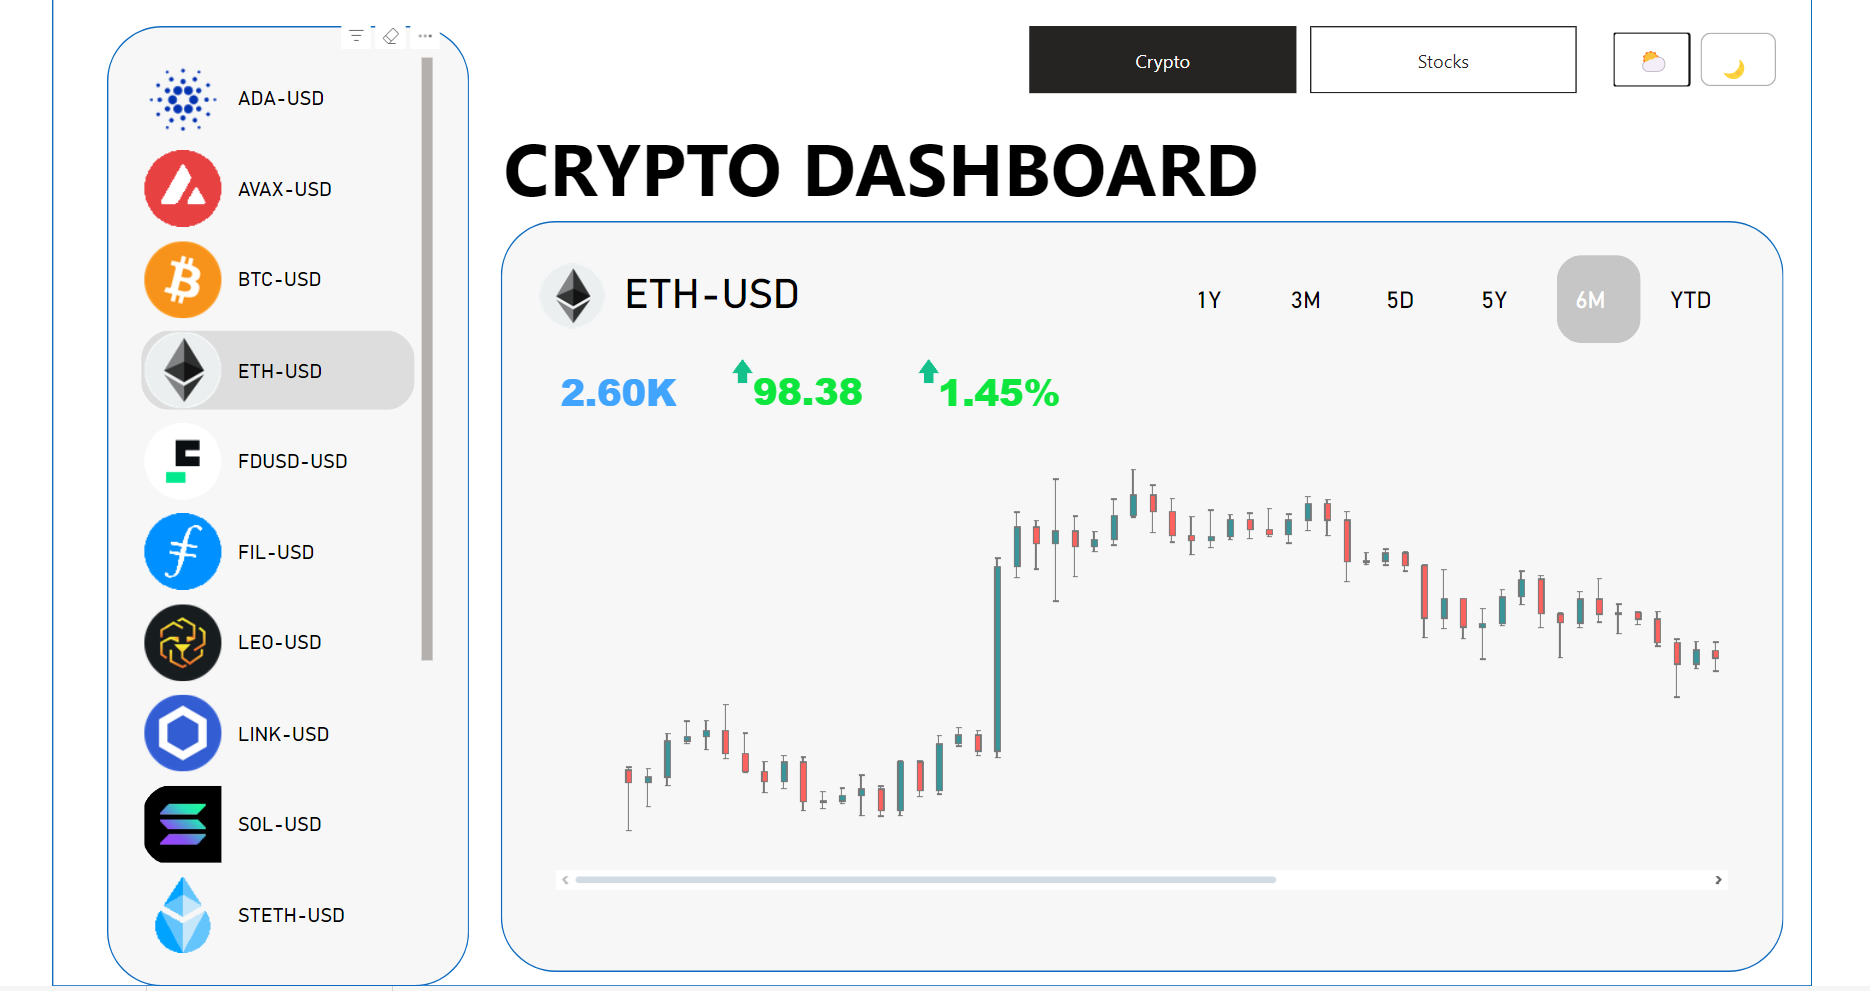

Layout of this report page (visuals, bound fields, positions):
{"tool":"powerbi","page":{"name":"Crypto","canvas":[1280,720],"ordinal":0},"visuals":[{"type":"shape","box":[0,0,1280.3,720.4],"z":0},{"type":"shape","box":[326.6,163.3,933.1,546.1],"z":1000},{"type":"shape","box":[39.8,22,263.5,698.5],"z":2000},{"type":"advancedSlicerVisual","fields":{"Values":["Color Codes.Label"]},"box":[1130.7,22,129,49.4],"z":3000},{"type":"PBI_CV_886A053E_9DFD_4EA0_A47D_CCAEB89AF969","fields":{"open":["Sum(Stocks Data.Open)"],"close":["Sum(Stocks Data.Close)"],"high":["Sum(Stocks Data.High)"],"low":["Sum(Stocks Data.Low)"],"Category":["Stocks Data.Date"]},"box":[352.7,310.1,879.6,347.2],"z":4000},{"type":"advancedSlicerVisual","fields":{"Values":["Stocks Data.Symbol"]},"box":[60.4,39.8,222.3,664.2],"z":5000},{"type":"advancedSlicerVisual","fields":{"Values":["Stocks Data.Date Category"]},"box":[813.7,183.9,418.5,74.1],"z":6000},{"type":"cardVisual","fields":{"Data":["Min(Stocks Data.LOGO)"]},"box":[326.6,163.3,109.8,113.9],"z":7000},{"type":"cardVisual","fields":{"Data":["Min(Stocks Data.Symbol)"]},"box":[399.3,172.9,240.1,79.6],"z":8000},{"type":"cardVisual","fields":{"Data":["Stocks Data.Open_value"]},"box":[352.7,238.8,153.7,89.2],"z":9000},{"type":"cardVisual","fields":{"Data":["Stocks Data.Open_Close_Diff"]},"box":[492.6,238.8,129,87.8],"z":10000},{"type":"cardVisual","fields":{"Data":["Stocks Data.Diff_%"]},"box":[627.1,240.1,166,87.8],"z":11000},{"type":"cardVisual","fields":{"Data":["Min(Stocks Data.LOGO)"]},"box":[467.9,238.8,76.8,71.4],"z":12000},{"type":"cardVisual","fields":{"Data":["Min(Stocks Data.LOGO)"]},"box":[603.8,238.8,76.8,71.4],"z":13000},{"type":"shape","box":[326.6,53.5,564,140],"z":14000},{"type":"pageNavigator","box":[710.8,22,399.3,49.4],"z":14001}]}

Visuals, with their boxes on the page's 1280x720 design canvas (x1, y1, x2, y2). These are canvas units, not pixel positions in the 1870x991 screenshot, which may show the page scaled, cropped or inside an application window:
shape: detection(0, 0, 1280, 720)
shape: detection(327, 163, 1260, 709)
shape: detection(40, 22, 303, 720)
advancedSlicerVisual - Color Codes.Label: detection(1131, 22, 1260, 71)
PBI_CV_886A053E_9DFD_4EA0_A47D_CCAEB89AF969 - Sum(Stocks Data.Open) x Sum(Stocks Data.Close): detection(353, 310, 1232, 657)
advancedSlicerVisual - Stocks Data.Symbol: detection(60, 40, 283, 704)
advancedSlicerVisual - Stocks Data.Date Category: detection(814, 184, 1232, 258)
cardVisual - Min(Stocks Data.LOGO): detection(327, 163, 436, 277)
cardVisual - Min(Stocks Data.Symbol): detection(399, 173, 639, 252)
cardVisual - Stocks Data.Open_value: detection(353, 239, 506, 328)
cardVisual - Stocks Data.Open_Close_Diff: detection(493, 239, 622, 327)
cardVisual - Stocks Data.Diff_%: detection(627, 240, 793, 328)
cardVisual - Min(Stocks Data.LOGO): detection(468, 239, 545, 310)
cardVisual - Min(Stocks Data.LOGO): detection(604, 239, 681, 310)
shape: detection(327, 54, 891, 194)
pageNavigator: detection(711, 22, 1110, 71)
